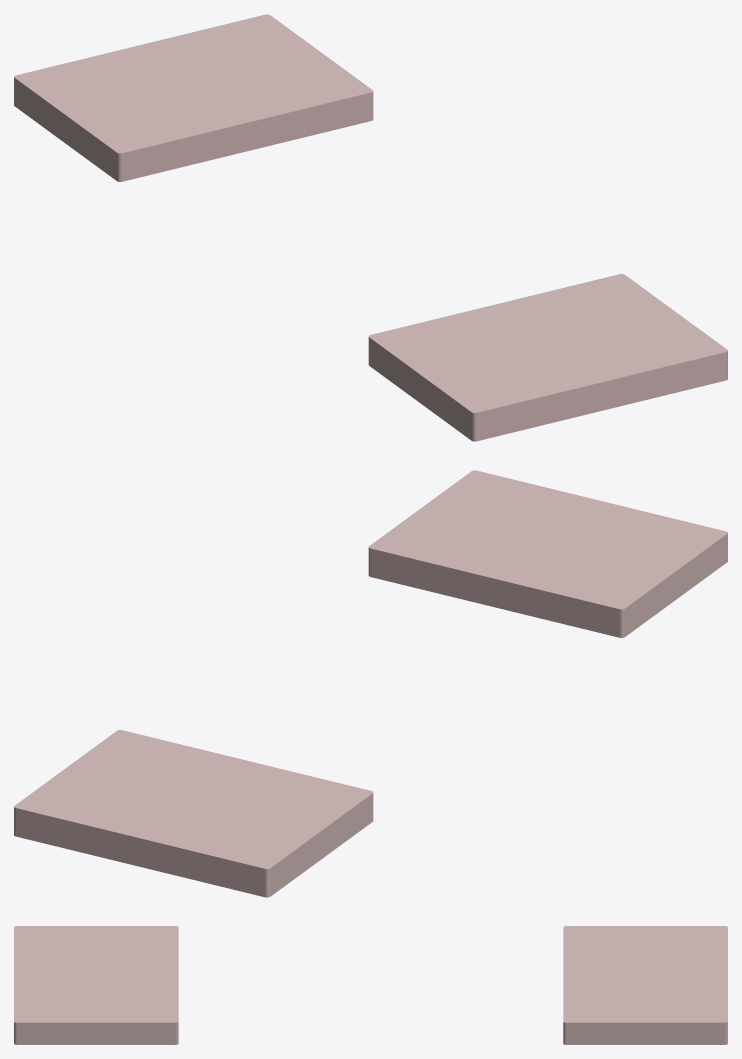
Rendered from OUTFITTING_INTERIOR__INT. FURNISHING__dbl mattress.glb.
The picture shows the model from 3 angles, top to bottom: view 1: azimuth 30°, elevation 25°; view 2: azimuth 150°, elevation 25°; view 3: azimuth 270°, elevation 25°; orthographic projection. The views are drawn at different scales.
Size of the model in its own units: 1.91 by 0.2032 by 5.94.
